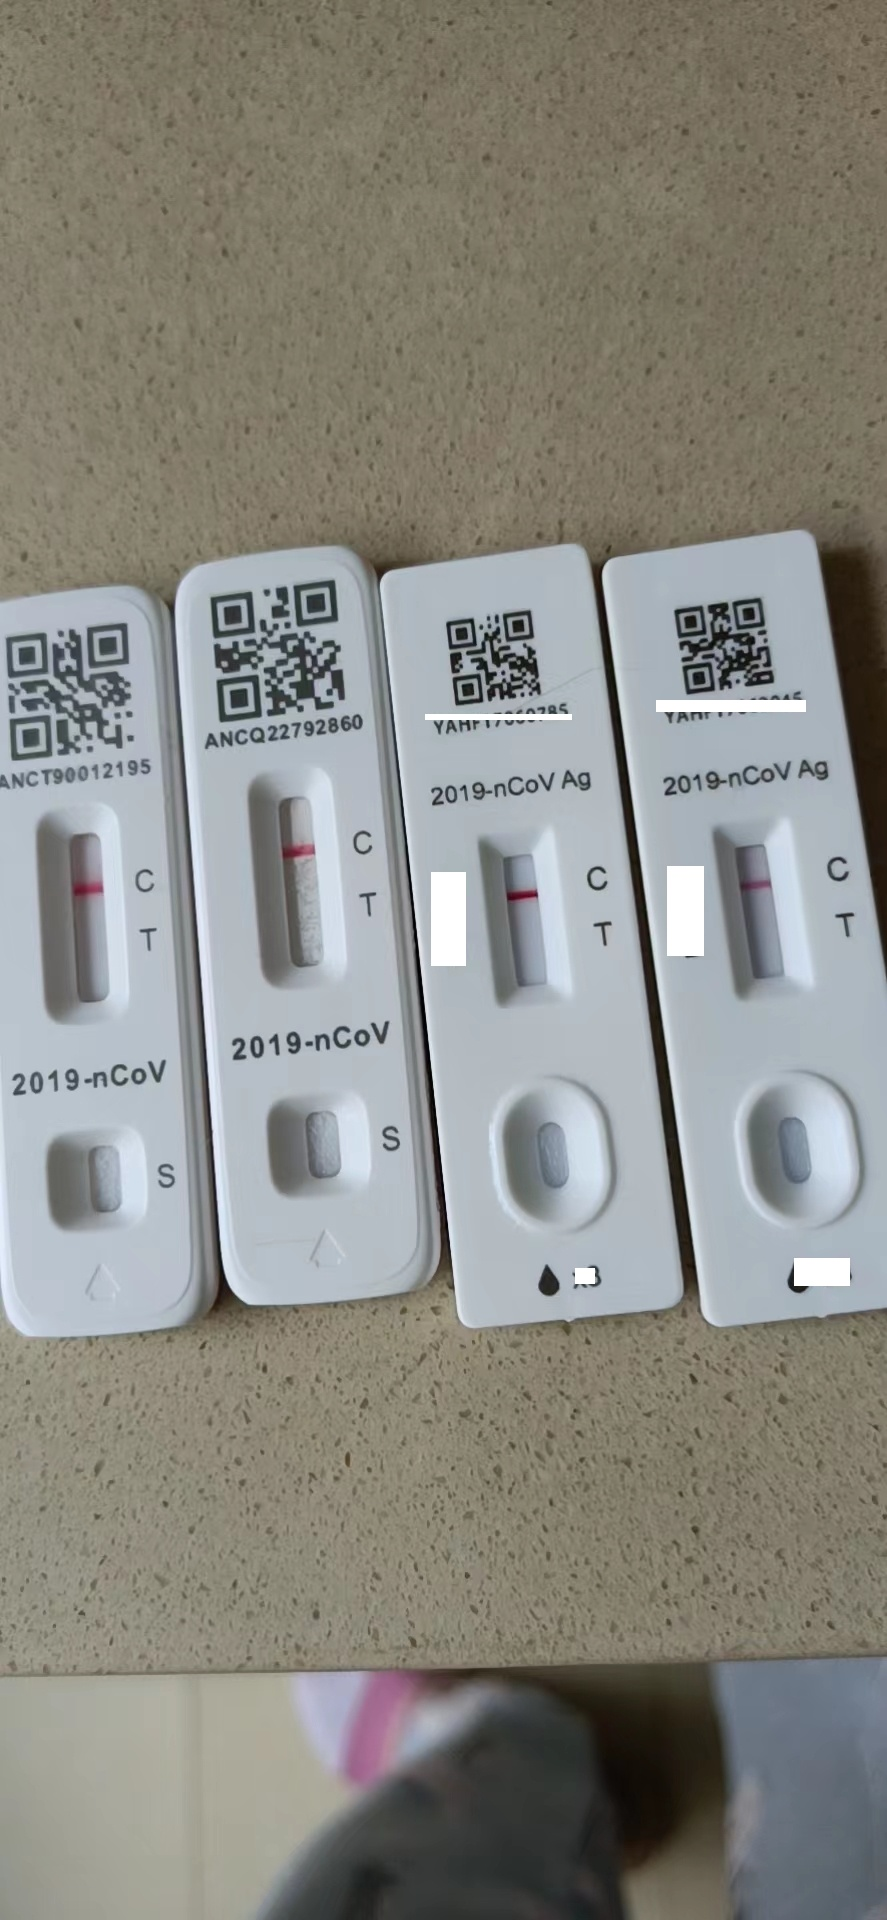negative: (246, 762, 344, 989), (36, 804, 130, 1029), (715, 817, 805, 994), (481, 825, 564, 1004)
